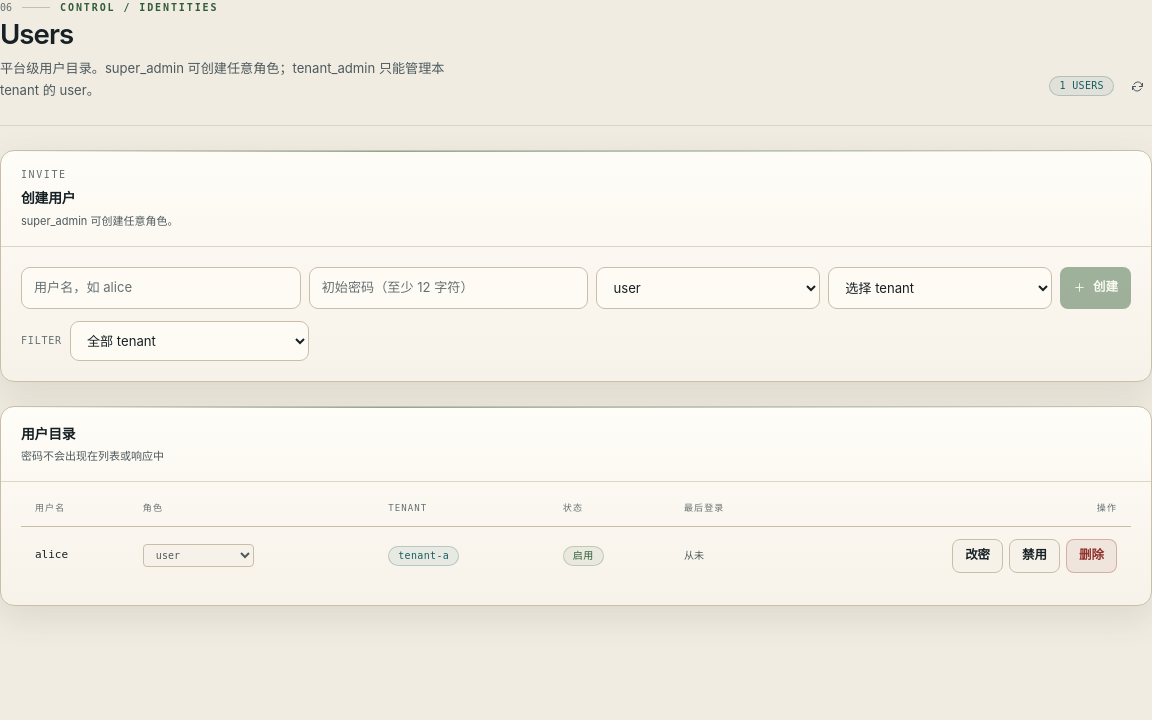
Users page password reset dialog › submits the new password with the super_admin system scope and reports success
Click the button "改密" at (978, 556), box [952, 538, 1003, 572]
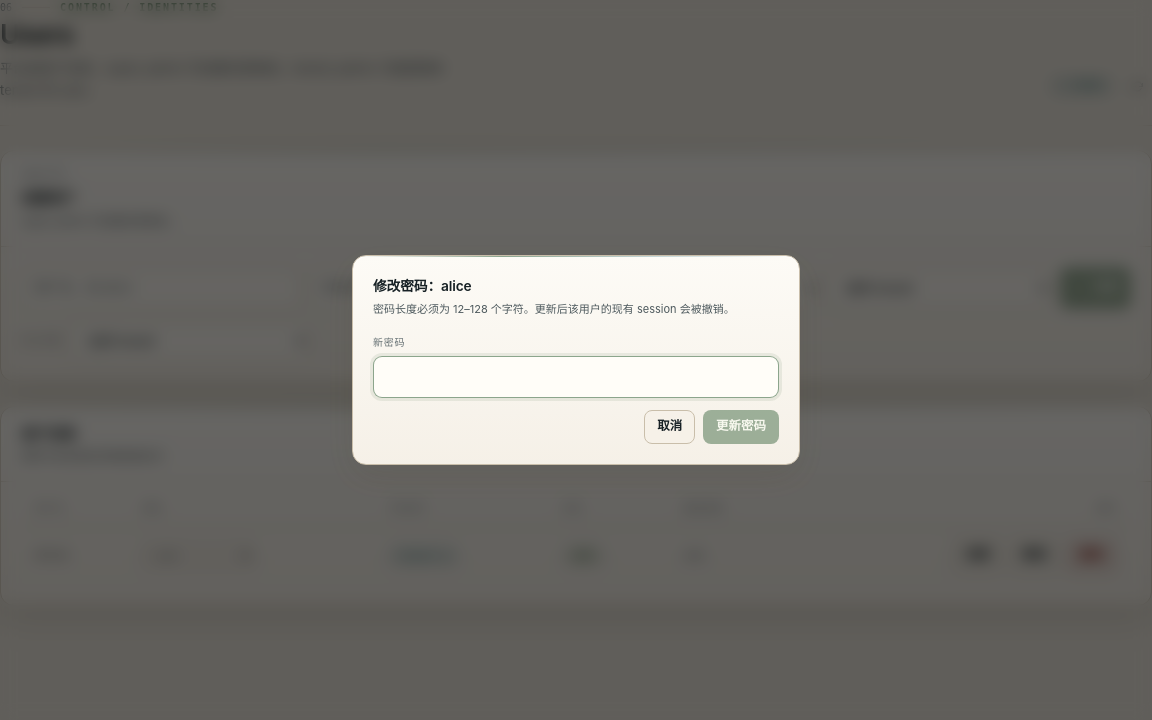
Type "correct horse battery" into the password field labelled "新密码" at (576, 377), box [373, 356, 779, 398]
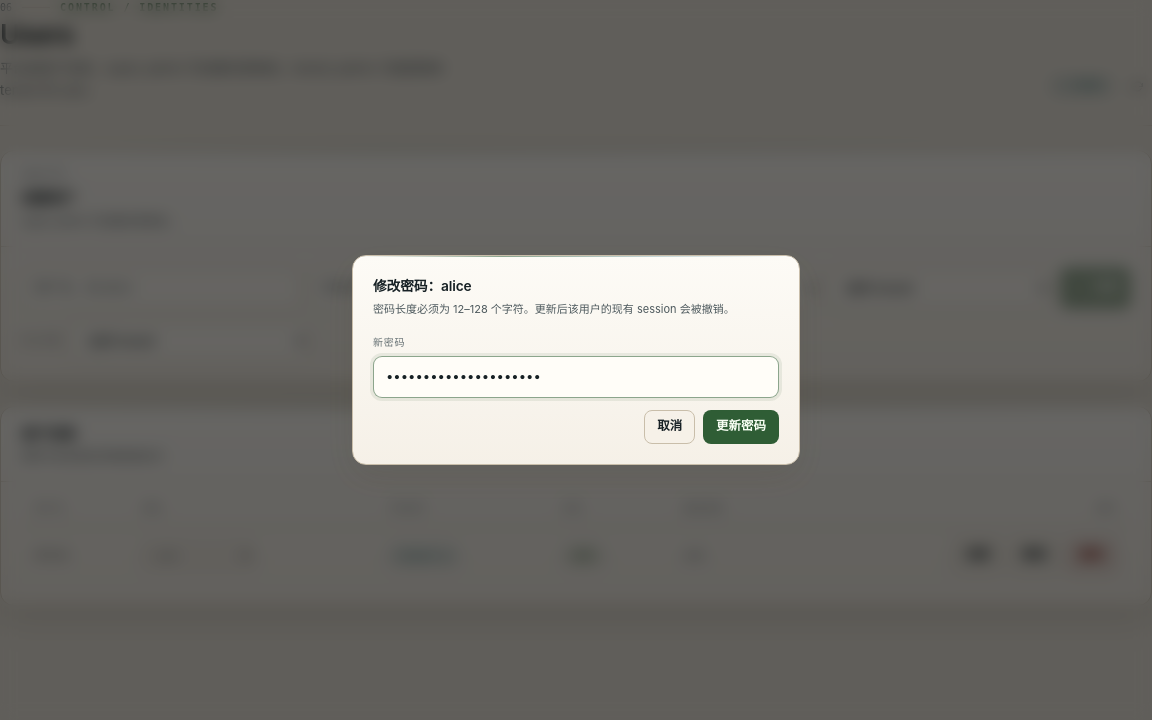
Click the button "更新密码" at (741, 427), box [703, 410, 779, 444]
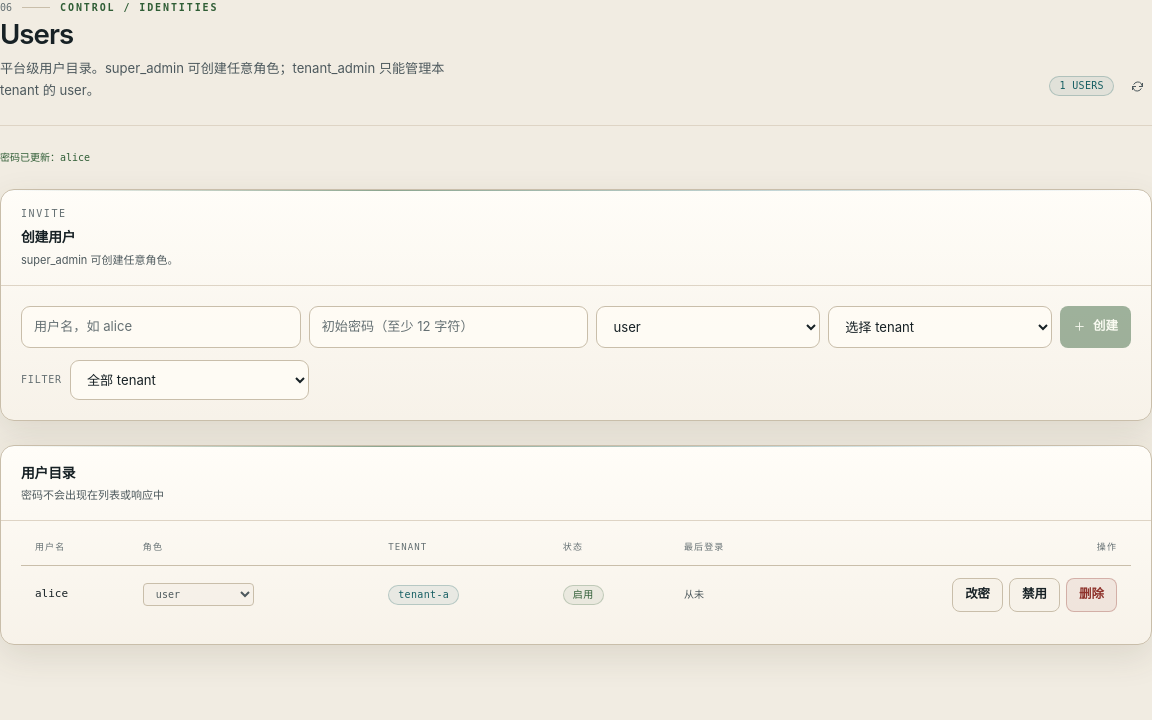
Check: the text "密码已更新：alice" is shown, box [0, 152, 90, 163]
Check: the heading "修改密码：alice" is gone
